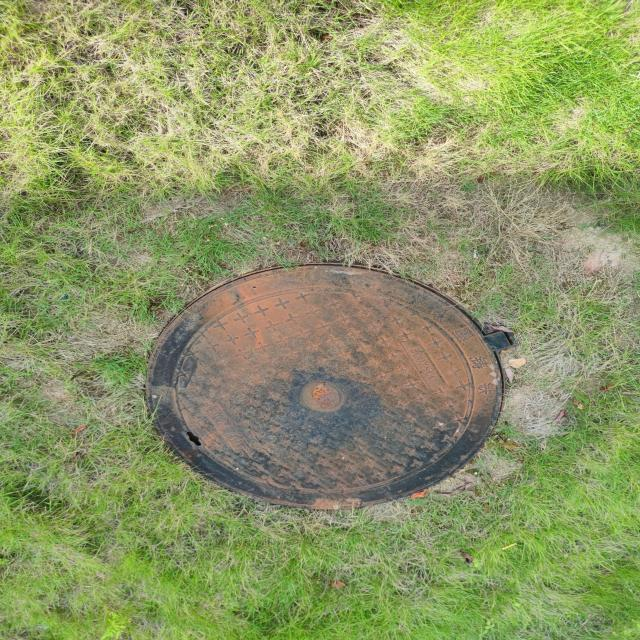Good: (140, 255, 520, 516)
